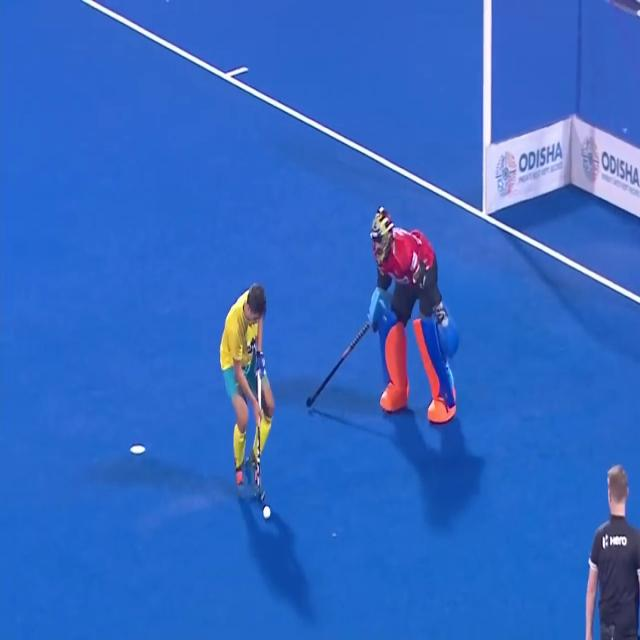ball: (254, 492, 280, 527)
